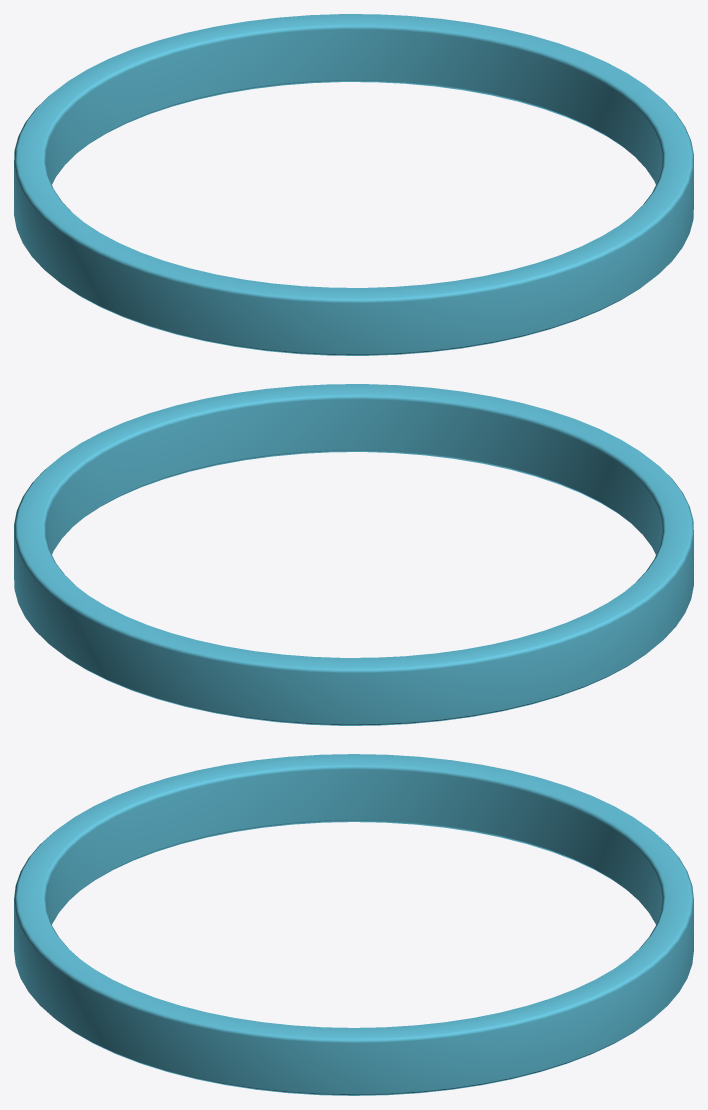
The picture shows the model from 3 angles, top to bottom: view 1: azimuth 30°, elevation 25°; view 2: azimuth 150°, elevation 25°; view 3: azimuth 270°, elevation 25°; orthographic projection.
Visible parts, largest first — view 1: seal_body; view 2: seal_body; view 3: seal_body.
Part boxes in pixels (x1,y1,x2,y2): seal_body: (14,14,693,355); seal_body: (14,384,693,725); seal_body: (14,754,693,1095).
Bounding box in the file's own units: 0.1016 × 0.00952 × 0.1016.
